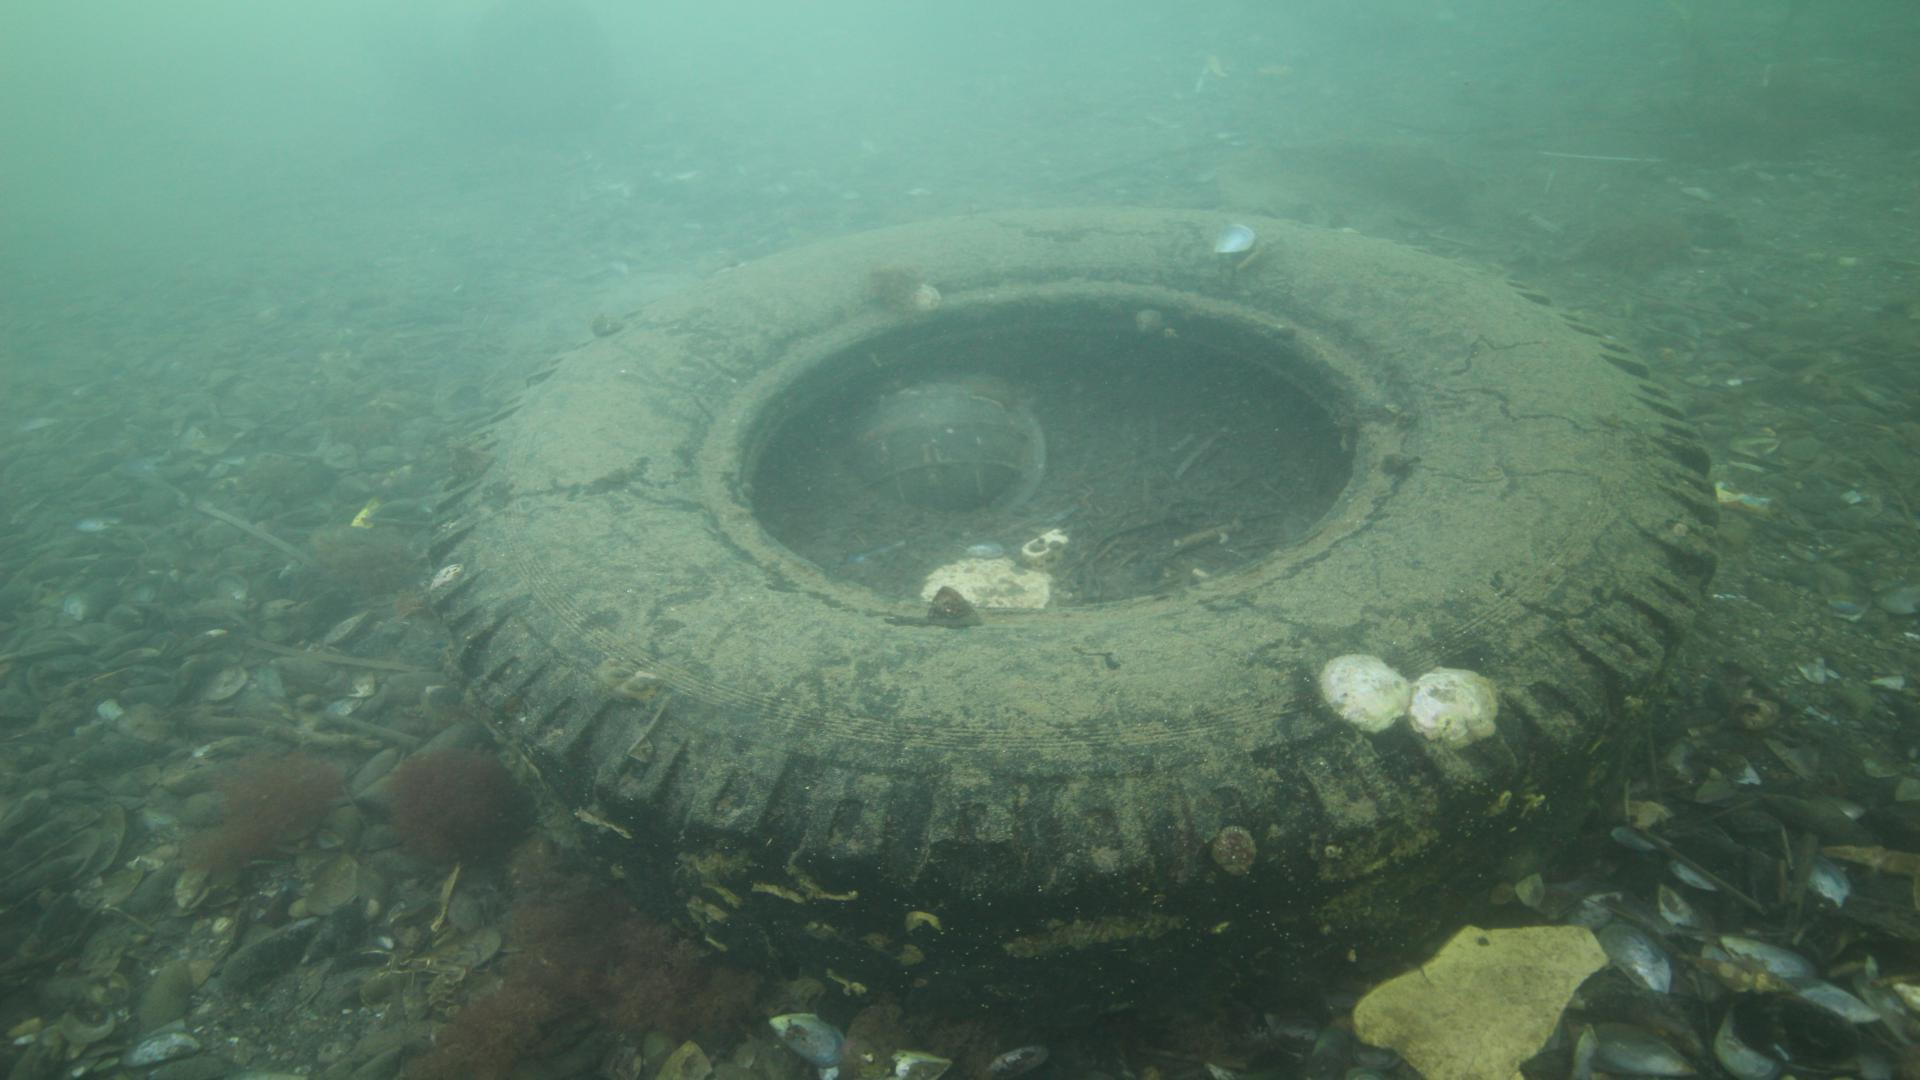tire: (426, 204, 1725, 1047)
